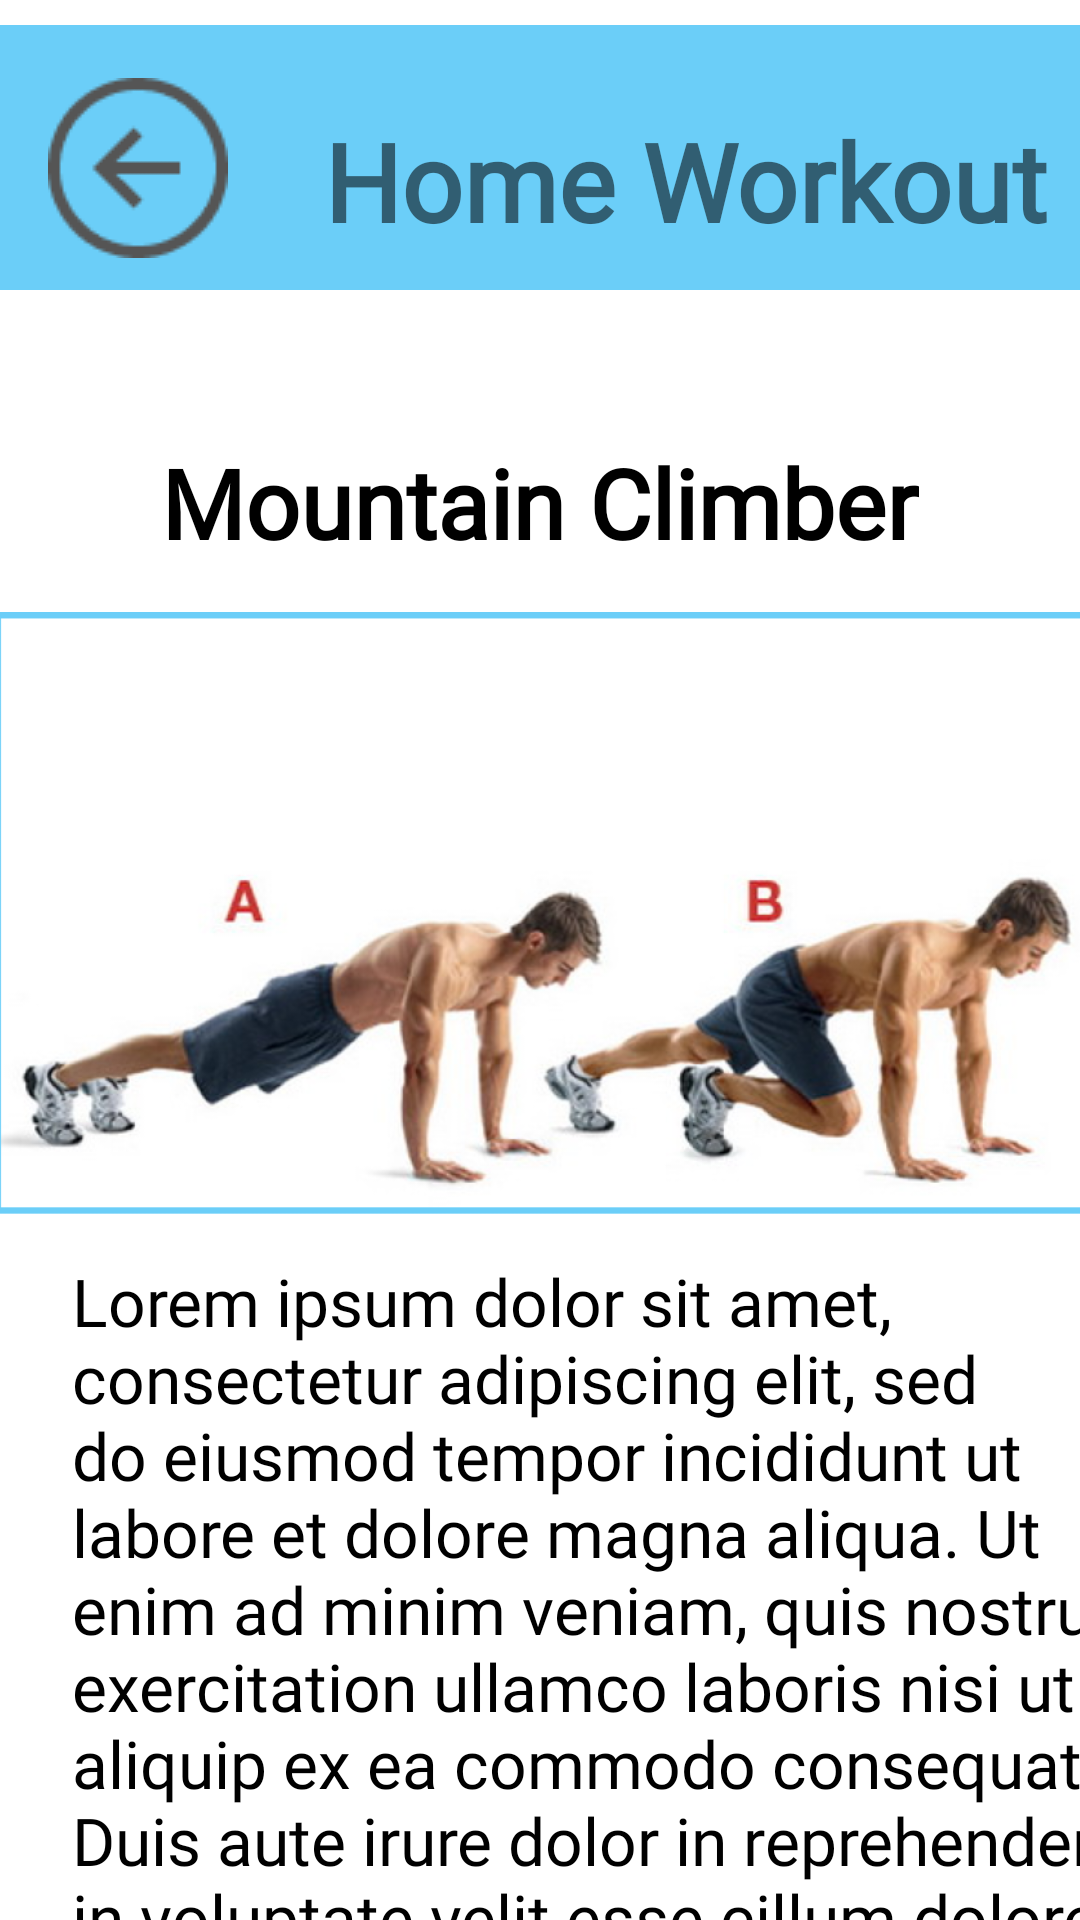

Where icons sit on this 1080×1920 app screen, as [x1=x1, y1=y1, x2=x2, y2=y2]:
backbtn: [x1=48, y1=78, x2=228, y2=258]
